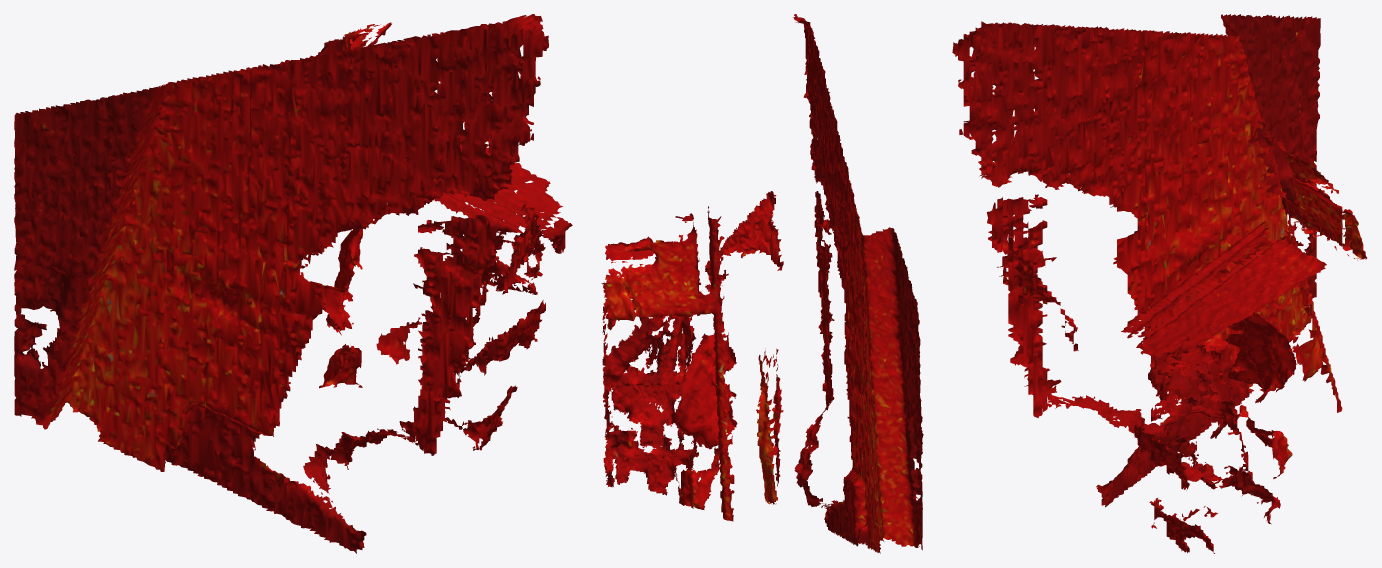
File: mesh_iter_0001.obj
3 views of the same model, side by side, from view 1: azimuth 30°, elevation 25°; view 2: azimuth 150°, elevation 25°; view 3: azimuth 270°, elevation 25° (orthographic). The views are drawn at different scales.
Bounding box in the file's own units: 2.02 × 2.28 × 1.63.
